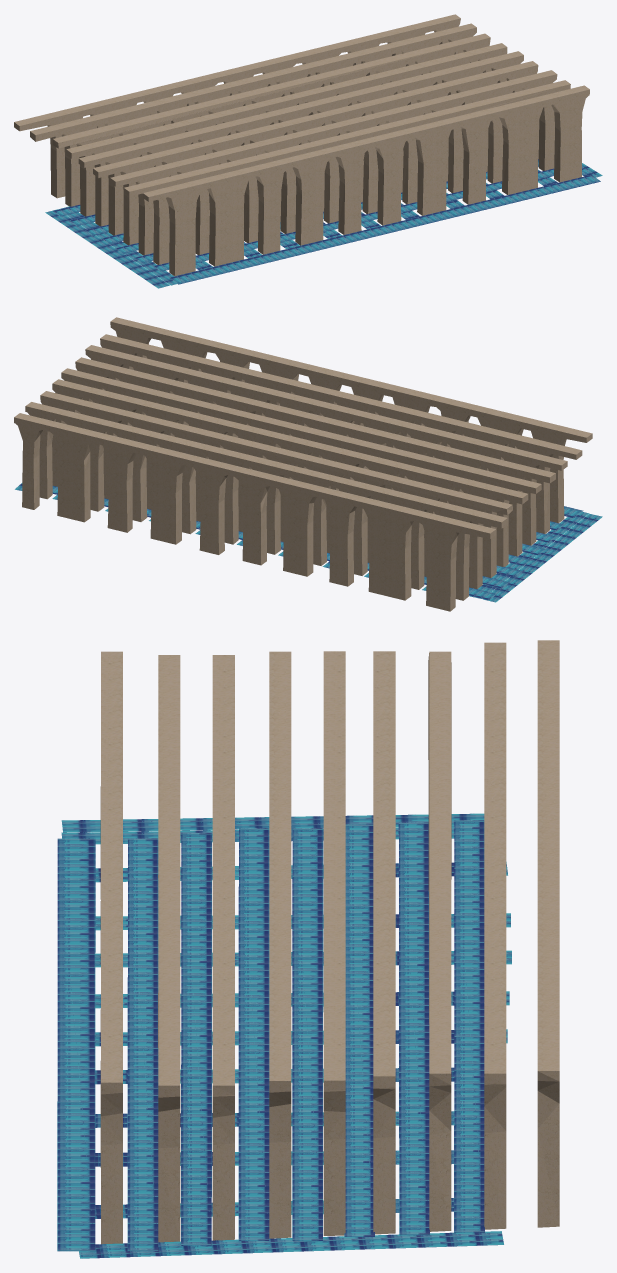
File: piliers-interieur.glb
3 renders of one model, top to bottom at view 1: azimuth 30°, elevation 25°; view 2: azimuth 150°, elevation 25°; view 3: azimuth 270°, elevation 25°, orthographic. The views are drawn at different scales.
Visible parts, largest first — view 1: Piliers, Tapis_Priere; view 2: Piliers, Tapis_Priere; view 3: Piliers, Tapis_Priere.
Boxes of the visible parts, left/top/right/bottom form: Piliers: left=14, top=14, right=589, bottom=276; Tapis_Priere: left=45, top=159, right=602, bottom=288; Piliers: left=14, top=317, right=592, bottom=611; Tapis_Priere: left=15, top=483, right=602, bottom=602; Piliers: left=100, top=640, right=559, bottom=1244; Tapis_Priere: left=57, top=813, right=511, bottom=1258.
Size of the model in its own units: 56.63 by 9.9 by 26.25.
Materials: 3 (3 with a texture image).
